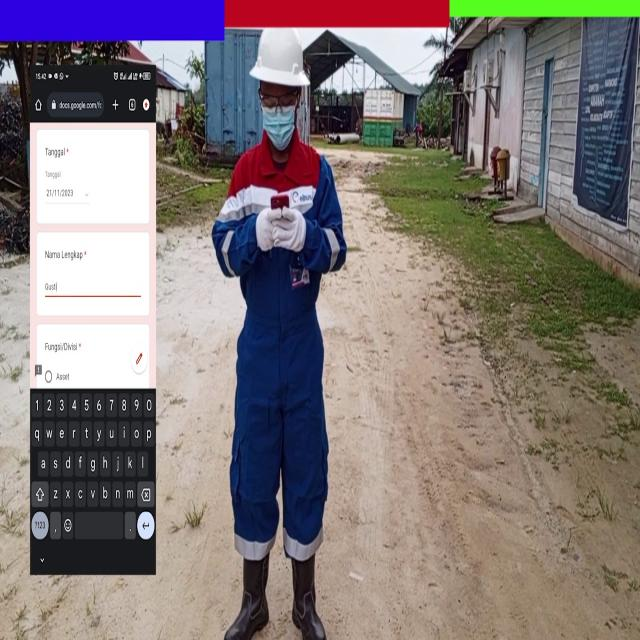Gloves: (274, 206, 306, 254), (257, 205, 282, 254)
Hardhat: (249, 31, 312, 98)
Mask: (263, 107, 296, 152)
Overall Suit: (211, 152, 347, 564)
Safety Boots: (215, 558, 270, 640), (290, 558, 326, 639)
